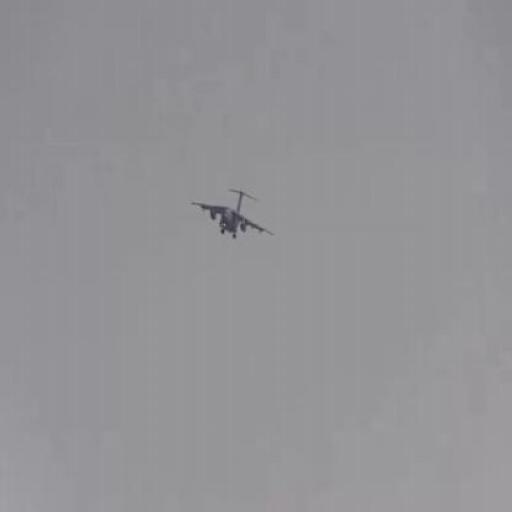aircraft: (190, 181, 276, 240)
